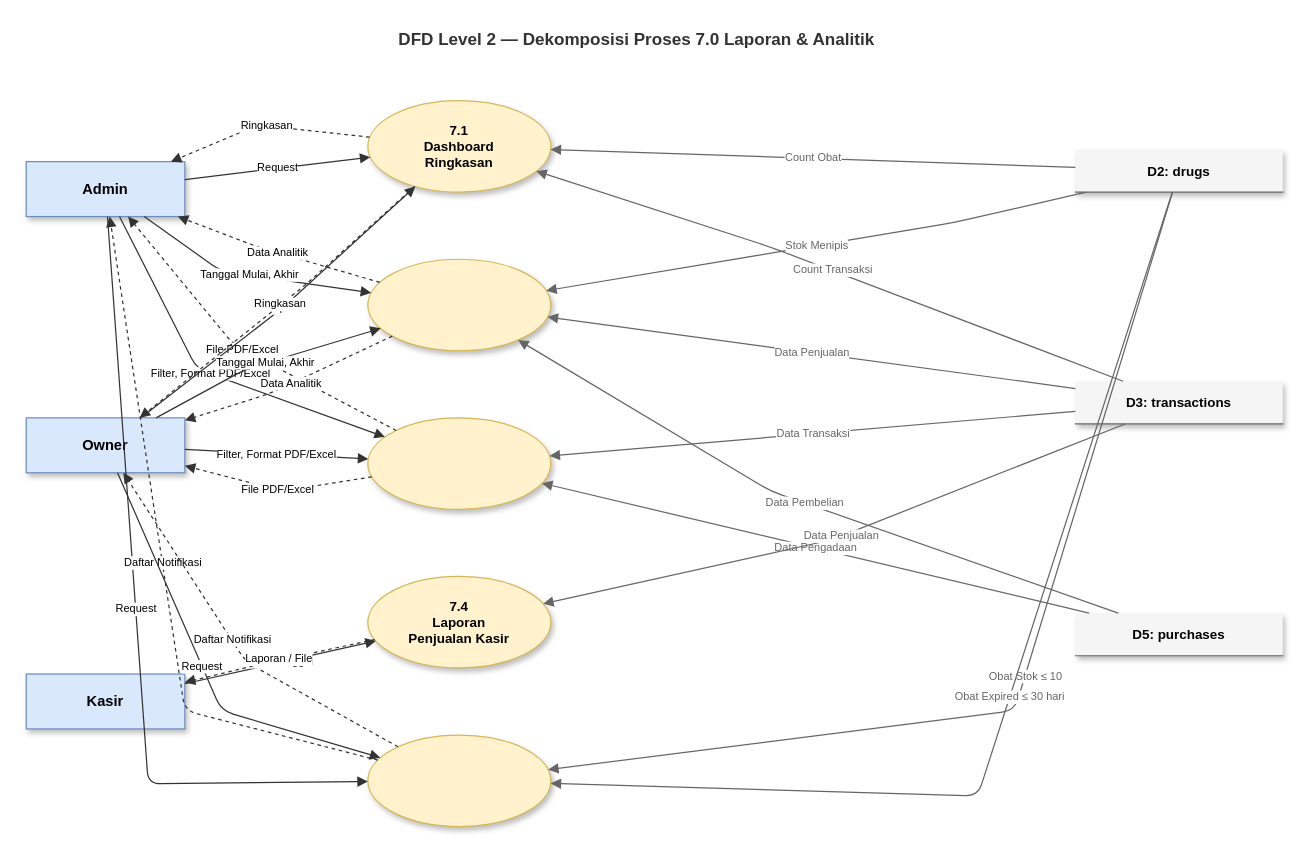
Image size: 1312x856. Some labels were removed from this diagram. The centre of each missing label's shape, as x and y in pixels:
7.2 Analitik Periode: point 460,306
7.3 Export Laporan Analitik: point 460,465
7.5 Notifikasi & Peringatan: point 460,782
